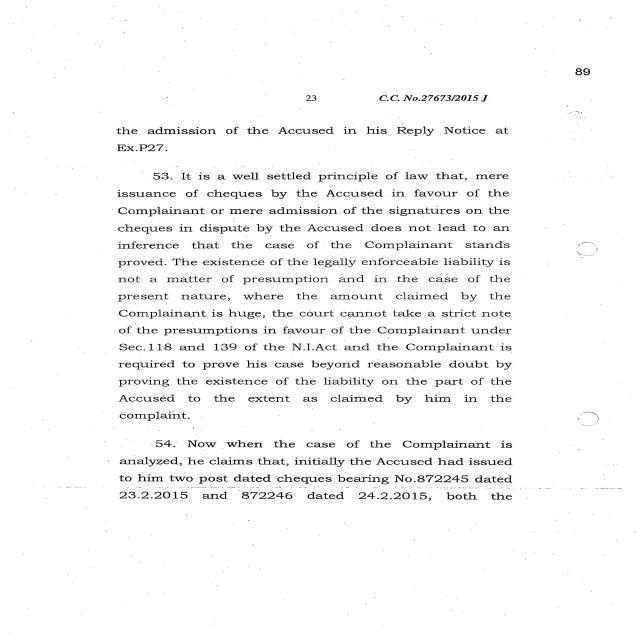page-number: (490, 26, 638, 108)
